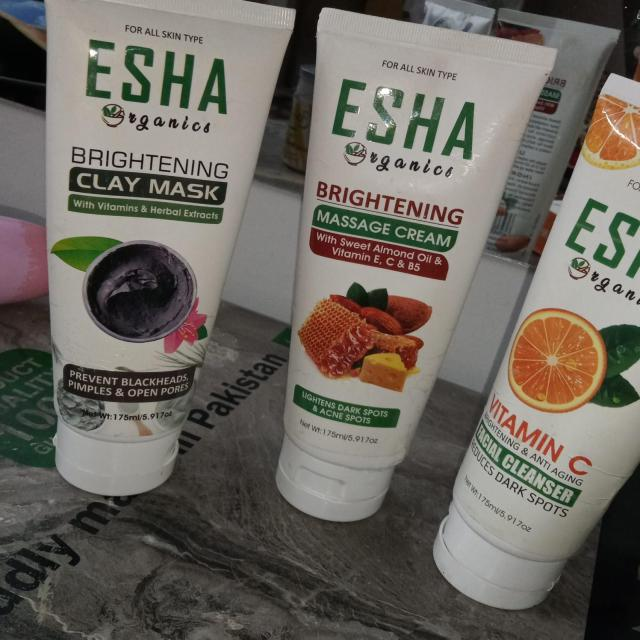bb cream: (19, 0, 640, 618)
